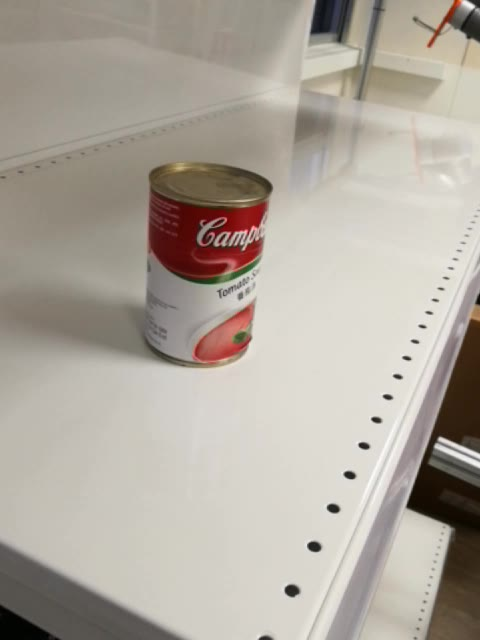tomatosoup: (144, 162, 273, 367)
